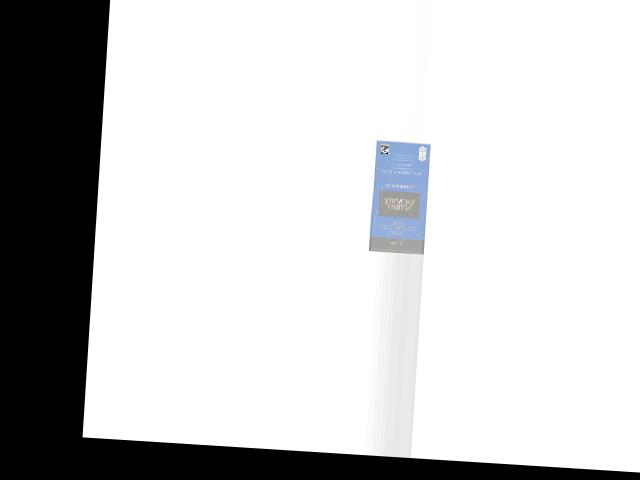chocolate: (368, 142, 431, 254)
